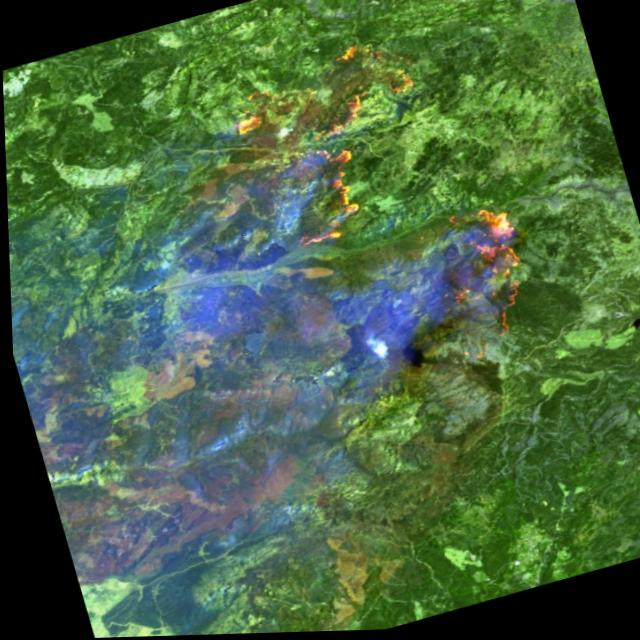fire: (181, 24, 460, 268), (430, 193, 569, 368)
